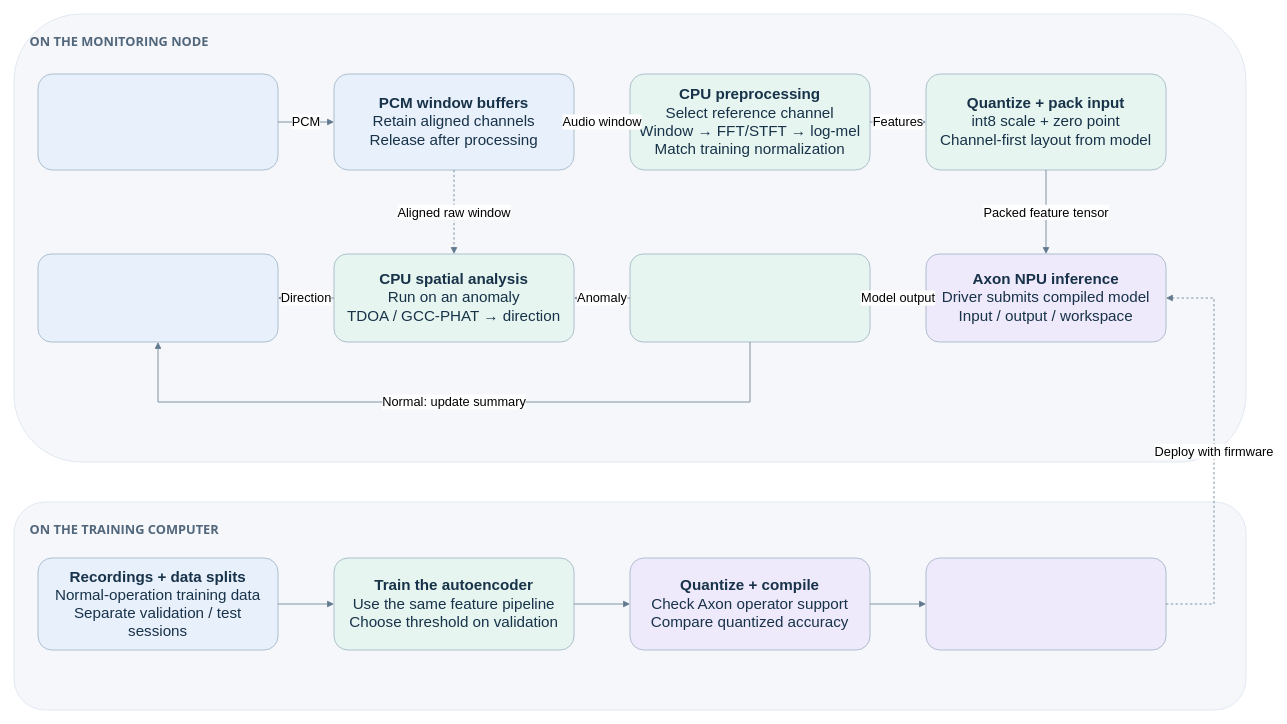
Image size: 1287x724. Some labels were removed from this diagram. The shapes that lost their labels are listed below. From the top down, each one's centre as x and y in pixels, then its label:
At point 157,121: "Synchronized capture Aligned microphone channels Audio samples → PCM buffers".
At point 157,297: "Store observation Score + time + direction Queue event or periodic summary".
At point 749,297: "CPU anomaly score Reconstruction error Apply threshold".
At point 1045,603: "Compiled model package Weights + compiled commands Shapes + buffer requirements".
